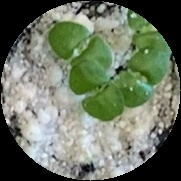Basil: (70, 64, 124, 117), (50, 23, 112, 68), (121, 54, 165, 108), (127, 12, 169, 52)
